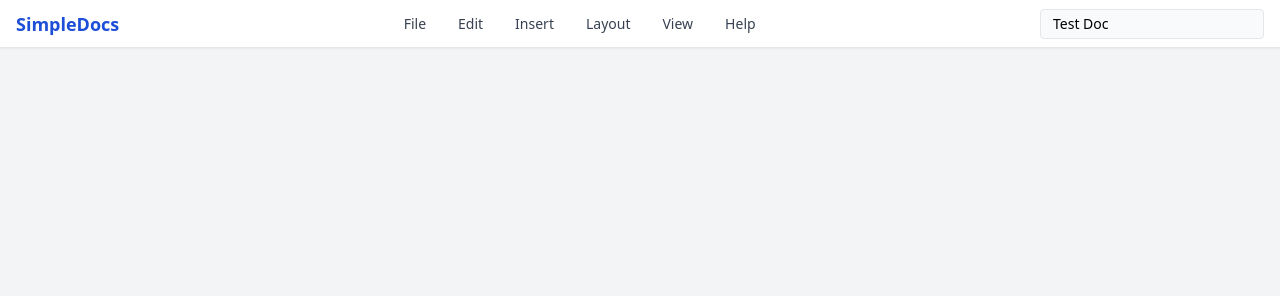
Test case: Navbar — menu close behavior › Layout menu › shows Alignment, Line Height, Paragraph Spacing and Indent sections
Click the button "Layout" at (608, 24), box [578,10,638,38]
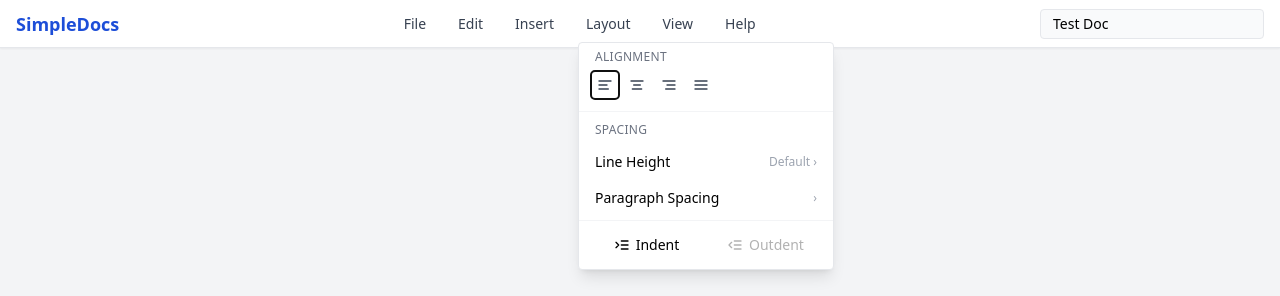
Result: the text "Alignment" is shown at [595,48,667,64]
Result: the text "Line Height" is shown at [595,152,670,172]
Result: the text "Paragraph Spacing" is shown at [595,188,719,208]
